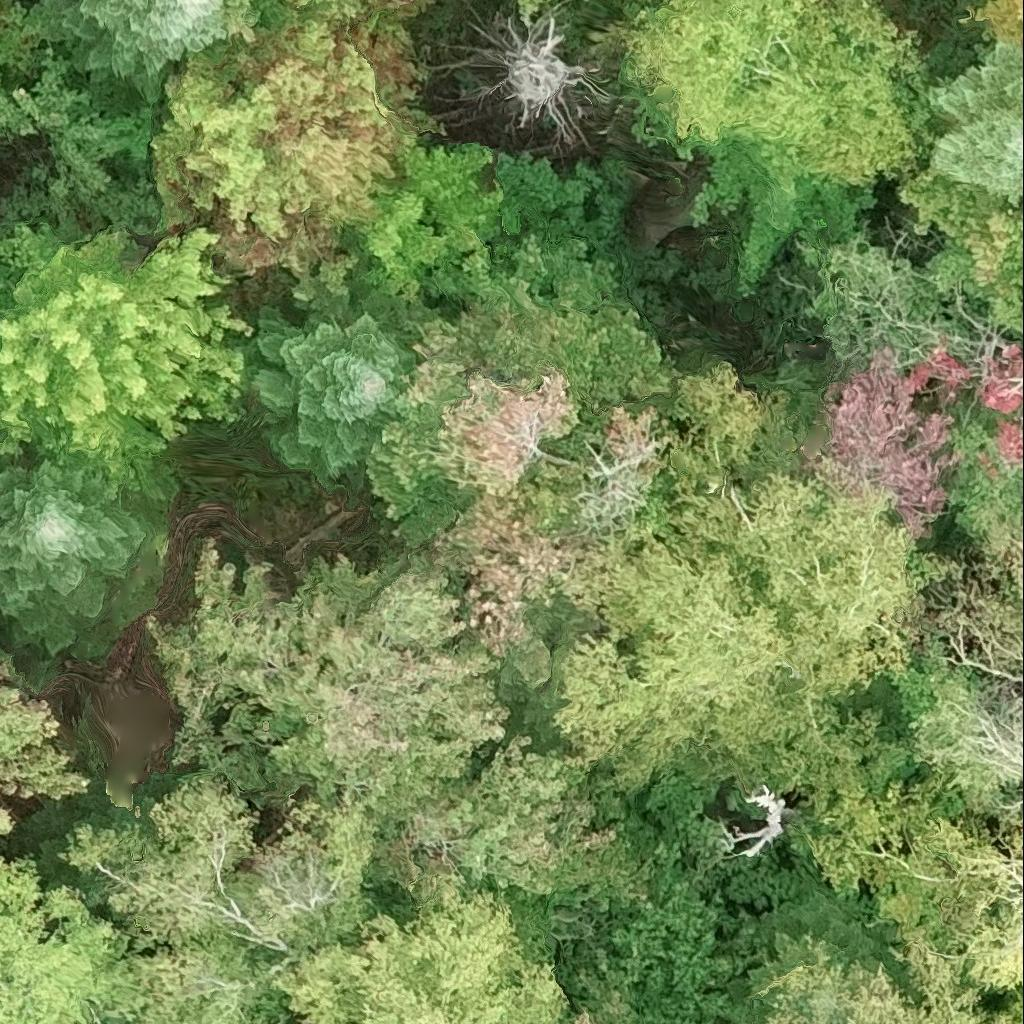crown: (555, 362, 937, 814), (364, 240, 686, 564), (148, 541, 510, 823), (65, 764, 403, 1023), (147, 3, 445, 283), (412, 377, 685, 664), (291, 137, 625, 353), (595, 0, 964, 189), (0, 220, 254, 490), (635, 85, 886, 293), (274, 879, 569, 1023), (384, 734, 617, 910), (809, 776, 998, 964), (0, 0, 150, 195), (252, 307, 418, 480), (0, 451, 144, 650), (0, 854, 155, 1023), (909, 635, 1023, 820), (899, 167, 1023, 333), (926, 811, 1023, 1023), (755, 935, 985, 1023), (46, 0, 229, 101), (925, 500, 1023, 681), (931, 44, 1023, 204), (0, 656, 86, 795), (483, 14, 584, 131), (223, 0, 415, 45), (722, 784, 798, 859), (517, 0, 546, 29), (0, 809, 12, 834)
